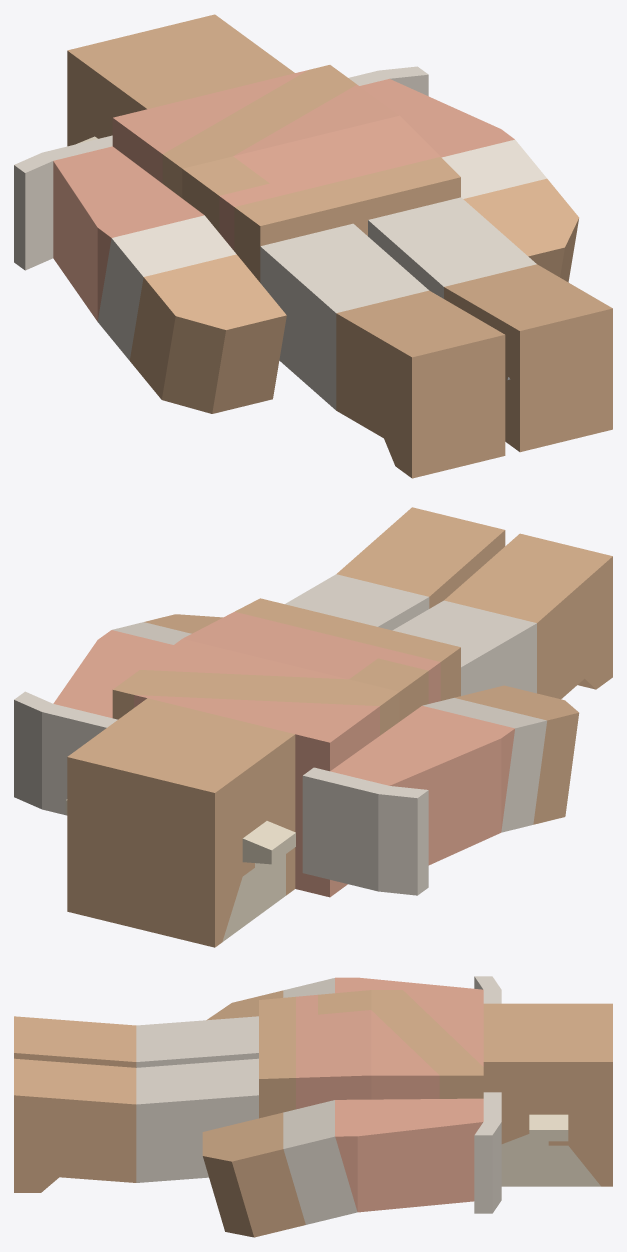
File: corrected_Pirate_Captain.fbx
3 renders of one model, top to bottom at view 1: azimuth 30°, elevation 25°; view 2: azimuth 150°, elevation 25°; view 3: azimuth 270°, elevation 25°, orthographic. The views are drawn at different scales.
Visible parts, largest first — view 1: armLeft, body, legLeft, legRight, armRight, Group 122; view 2: Group 122, armLeft, body, legLeft, legRight, armRight; view 3: armRight, legRight, body, Group 122, legLeft, armLeft.
Boxes of the visible parts, box(x1,y1,x2,y2) form: armLeft: box(14, 135, 286, 413); body: box(112, 65, 460, 282); legLeft: box(260, 223, 505, 478); legRight: box(368, 197, 612, 452); armRight: box(349, 66, 579, 282); Group 122: box(67, 14, 294, 146); Group 122: box(65, 698, 295, 947); armLeft: box(302, 685, 579, 895); body: box(112, 598, 460, 897); legLeft: box(392, 533, 612, 699); legRight: box(285, 507, 505, 630); armRight: box(14, 614, 222, 815); armRight: box(202, 1092, 501, 1237); legRight: box(14, 1058, 258, 1192); body: box(259, 990, 483, 1118); Group 122: box(483, 1003, 612, 1186); legLeft: box(14, 1016, 258, 1067); armLeft: box(206, 976, 501, 1020).
Bounding box in the file's own units: 624 × 995 × 248.
